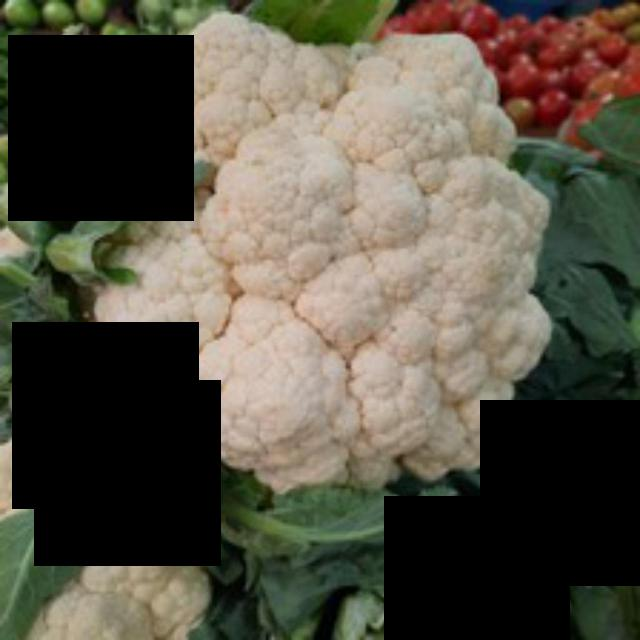cauliflower: (96, 12, 566, 533)
